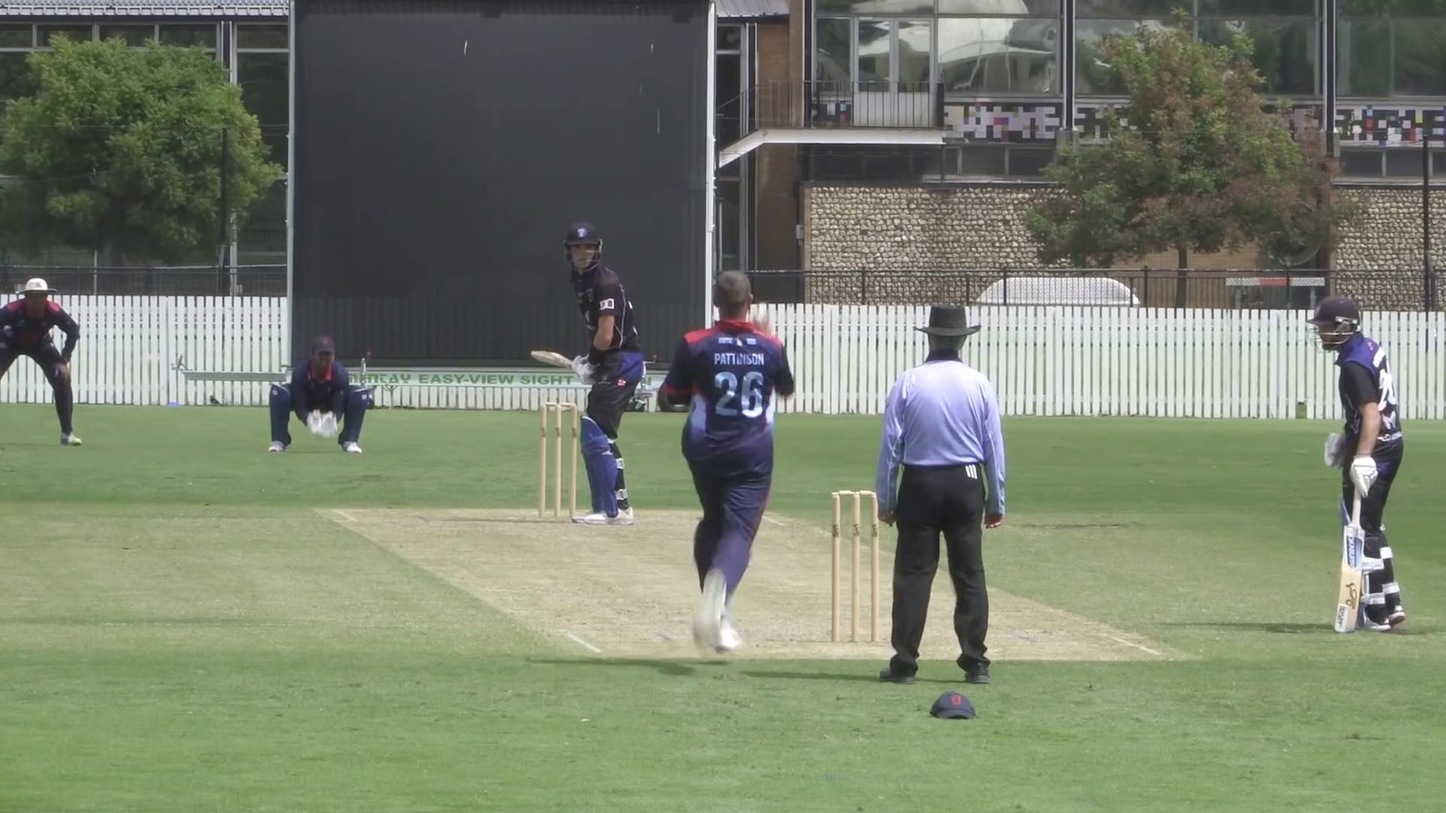ball: (749, 305, 771, 331)
